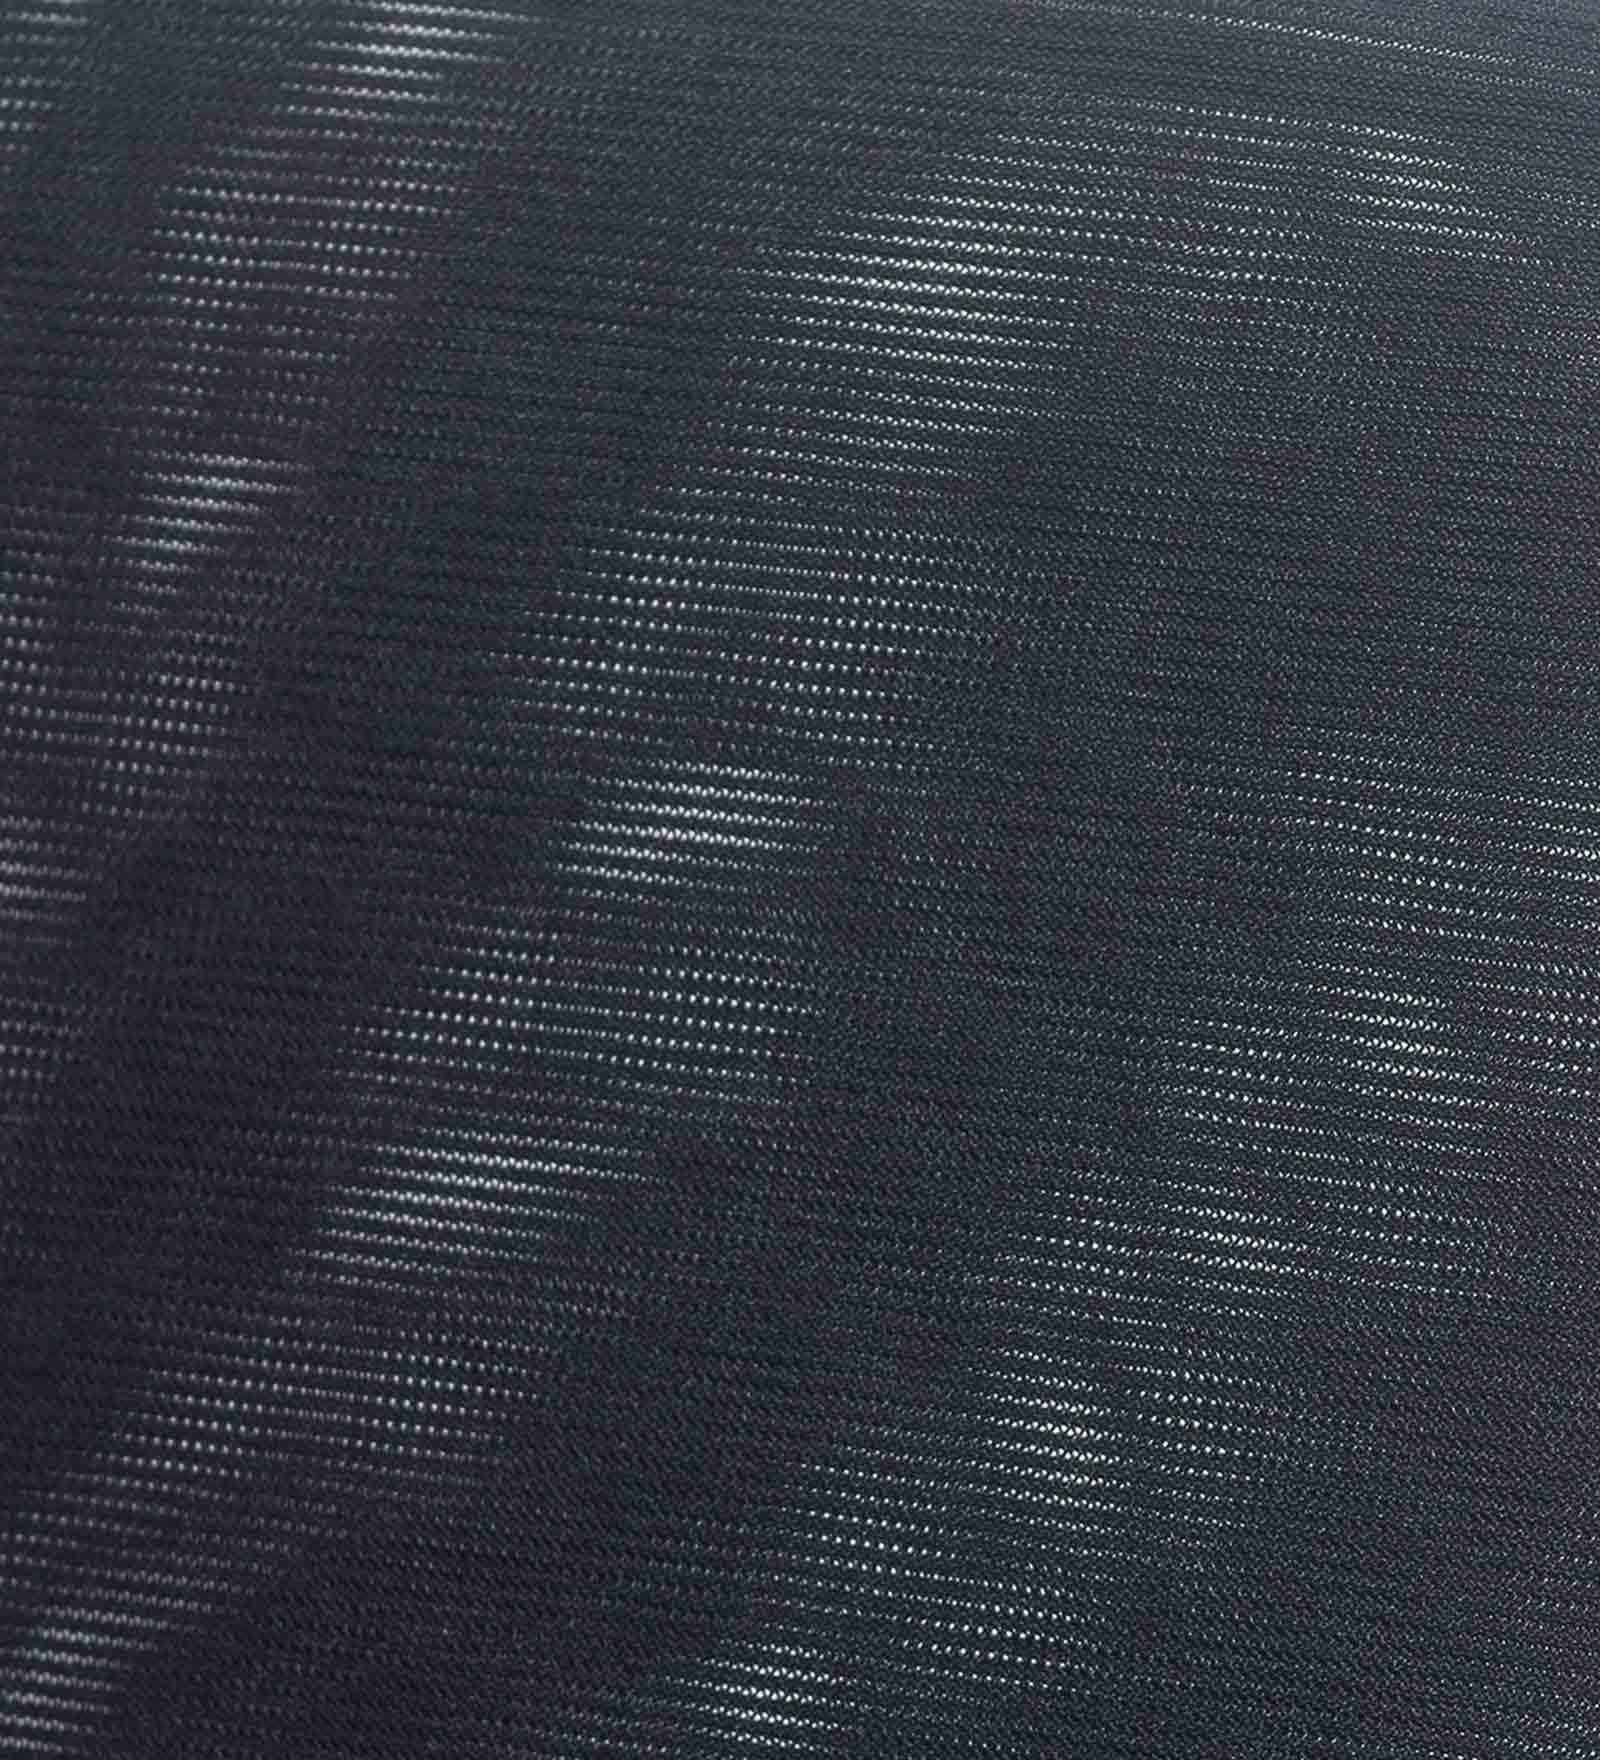Teak Wood Rocking Chair in Walnut Finish by Furniease: (97, 221, 1491, 1676)
